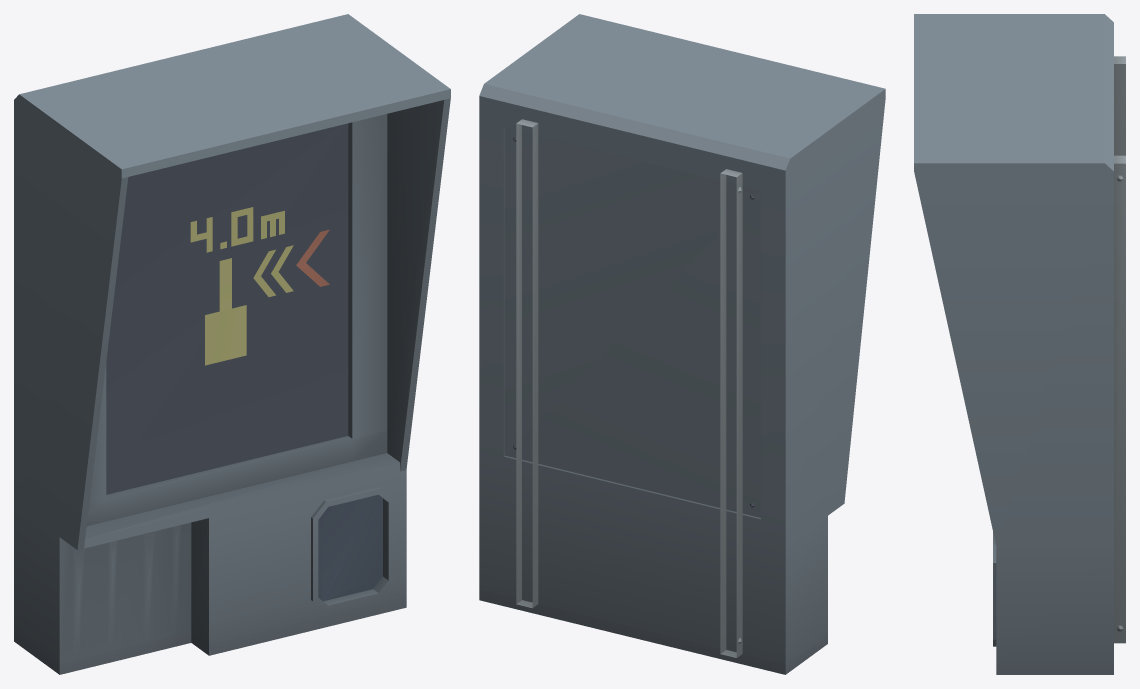
Rendered from vdgs.glb.
3 views of the same model, side by side, from view 1: azimuth 30°, elevation 25°; view 2: azimuth 150°, elevation 25°; view 3: azimuth 270°, elevation 25° (orthographic). The views are drawn at different scales.
Parts seen in each view (by area): view 1: vdgs; view 2: vdgs; view 3: vdgs.
Part boxes in pixels (left/top/right/bottom): vdgs: left=14, top=14, right=450, bottom=674; vdgs: left=479, top=14, right=885, bottom=674; vdgs: left=914, top=14, right=1125, bottom=674.
Bounding box in the file's own units: 1.5 × 2.4 × 0.9.
